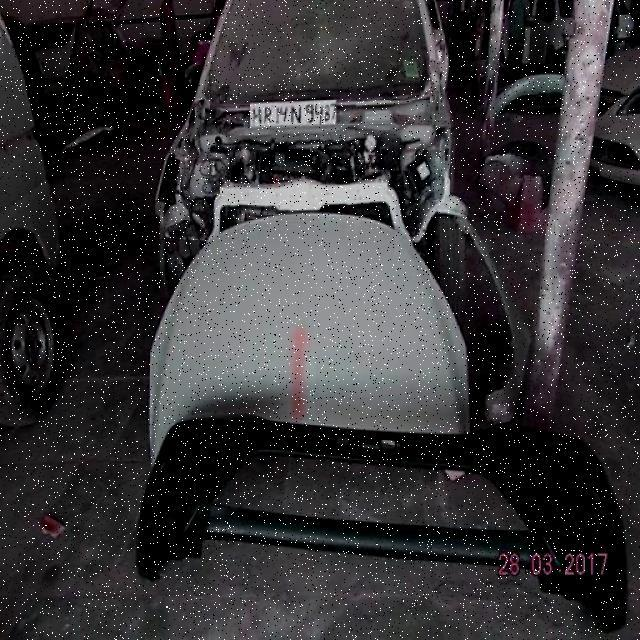car damage: (162, 164, 446, 271)
